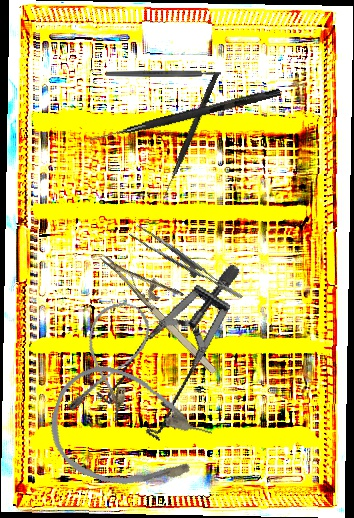Cannula: (37, 354, 222, 510), (63, 294, 157, 426)
Hook Surgical: (89, 85, 281, 147), (161, 71, 220, 200)
Needle Holder: (99, 232, 237, 378)
Scalpel Handle: (106, 70, 221, 77)
Speculum: (70, 261, 290, 457)
Tissue Forceps: (128, 214, 244, 317)
